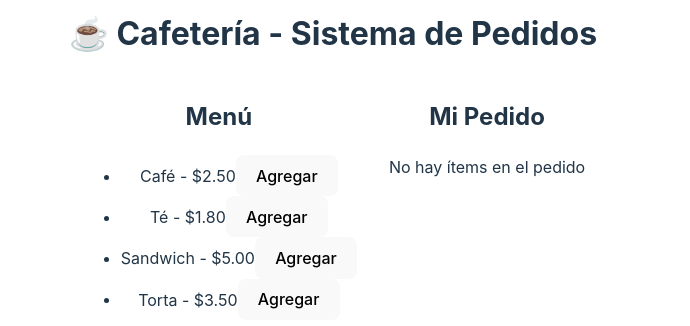
Test case: App - HU5: Enviar pedido › debe enviar el pedido y mostrar mensaje de confirmación
expect the text "Café - $2.50" is shown: met, box [140,166,236,186]
Note: Agregar productos
Click the button "Agregar" in the row of "Café" at (287, 176), box [236,155,338,196]
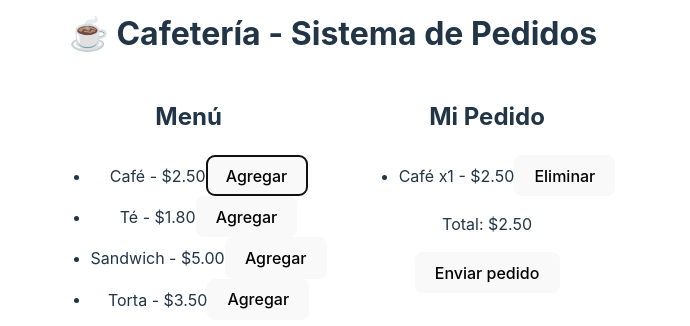
Note: Enviar pedido
Click the button "Enviar pedido" at (487, 273), box [415,252,560,293]
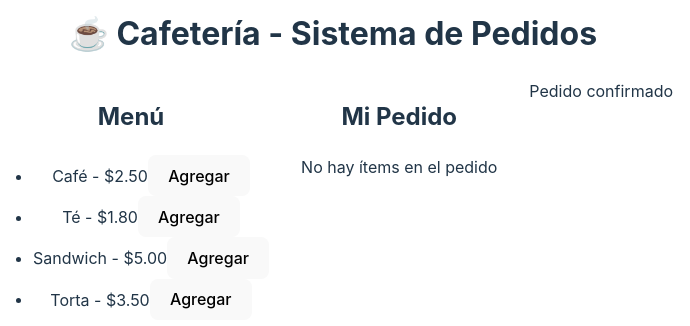
expect the text "Pedido confirmado" is shown: met, box [529,81,673,101]
